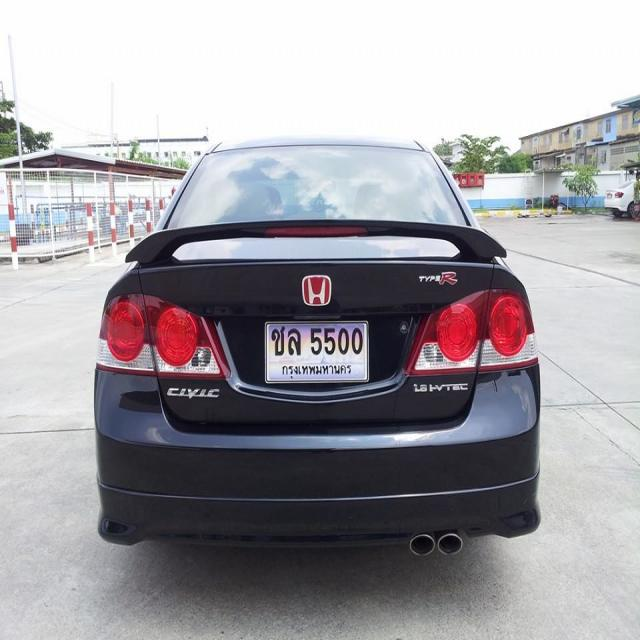license_plate: (265, 319, 370, 387)
